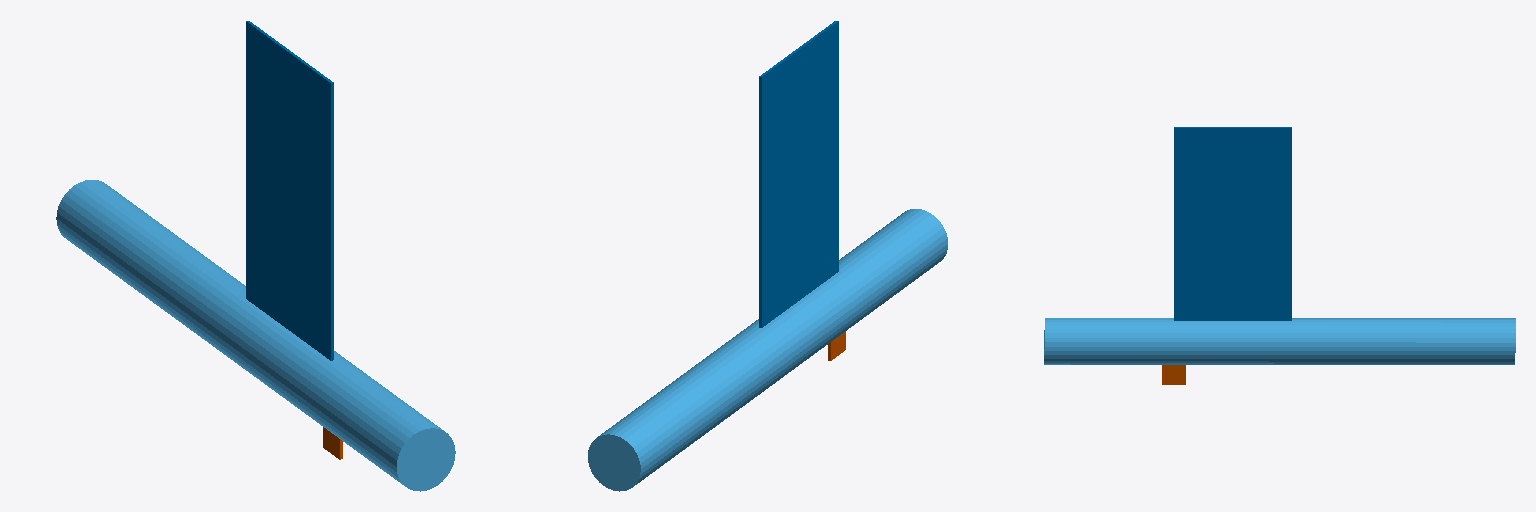
The robot description file, URDF, robot "sailboat":
<?xml version="1.0"?>
<robot name="sailboat">
	<link name="world"/>
	<link name="base_hull">
		<visual>
			<origin rpy="1.57 0 0"/>
			<geometry>
				<cylinder length="2.0" radius="0.1"/>
			</geometry>
		</visual>
	</link>
	<link name="base_rudder"/>
	<link name="base_sail"/>
	<link name="sailboat_sail">
                <visual>
			<origin xyz="0 -0.25 0"/>
                        <geometry>
                                <box size="0.01 0.5 1"/>
                        </geometry>
                </visual>
        </link>

	<link name="sailboat_rudder">
                <visual>
			<origin xyz="0 -0.05 0"/>
                        <geometry>
                                <box size="0.01 0.1 0.2"/>
                        </geometry>
                </visual>
        </link>
	<joint name="world_hull" type="floating">
		<parent link="world"/>
		<child link="base_hull"/>
	</joint>

	<joint name="hull_rudder" type="fixed">
		<parent link="base_hull"/>
		<child link="base_rudder"/>

		<origin xyz="0 -0.4 0"/>
	</joint>

        <joint name="hull_sail" type="fixed">
                <parent link="base_hull"/>
                <child link="base_sail"/>

		<origin xyz="0 0.05 0" />
        </joint>

        <joint name="rudder_angle" type="revolute">
                <parent link="base_rudder"/>
                <child link="sailboat_rudder"/>

		<origin xyz="0 0 -0.1"/>
		<axis xyz="0 0 1"/>
                <limit lower="-0.78" upper="0.78" effort="100" velocity="1"/>
        </joint>

        <joint name="sail_angle" type="revolute">
                <parent link="base_sail"/>
                <child link="sailboat_sail"/>

		<origin xyz="0 0 0.5"/>
		<axis xyz="0 0 1"/>
		<limit lower="-1.57" upper="1.57" effort="100" velocity="1"/>
        </joint>

</robot>

--- Render facts (derived) ---
The picture shows the robot from 3 angles, left to right: view 1: azimuth 30°, elevation 25°; view 2: azimuth 150°, elevation 25°; view 3: azimuth 270°, elevation 25°; orthographic projection.
Model sailboat with 6 links and 5 joints (2 revolute, 2 fixed, 1 floating), rooted at world, posed every joint at zero.
Links seen in each view (by area): view 1: base_hull, sailboat_sail; view 2: base_hull, sailboat_sail; view 3: sailboat_sail, base_hull.
Link boxes in pixels (<box>): base_hull: <box>56,180,455,491</box>; sailboat_sail: <box>246,21,333,360</box>; base_hull: <box>588,209,947,491</box>; sailboat_sail: <box>759,21,838,327</box>; sailboat_sail: <box>1174,127,1291,320</box>; base_hull: <box>1044,318,1515,364</box>.
Bounding box of the posed robot: 0.2 × 2 × 1.2 m (x, y, z).
Geometry: primitives only (box / cylinder / sphere), no mesh files.